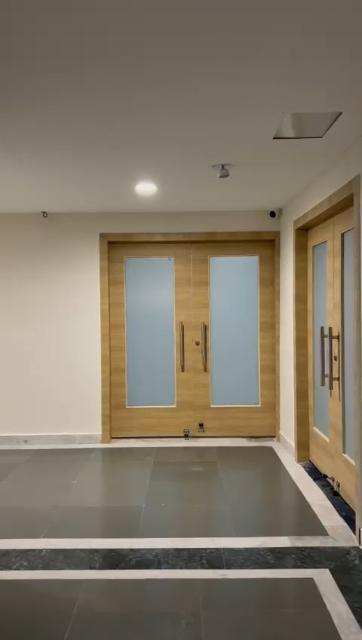door: (94, 228, 284, 444), (292, 219, 362, 477)
floor: (1, 433, 362, 640)
wall: (0, 224, 103, 438)
